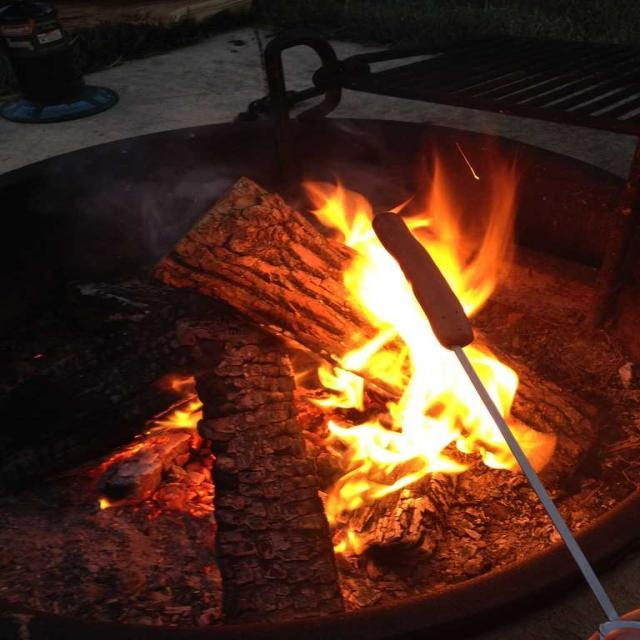Fire: (356, 354, 458, 462), (358, 254, 396, 326)
